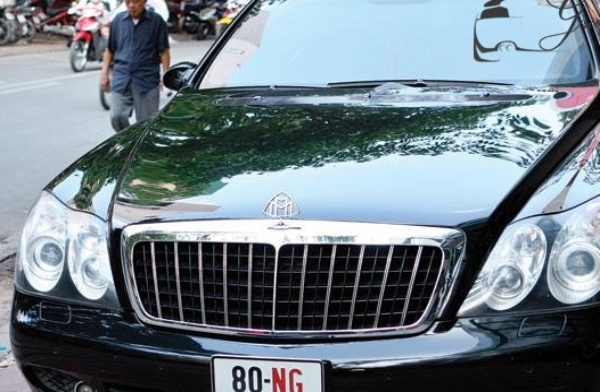plate: (208, 354, 331, 392)
